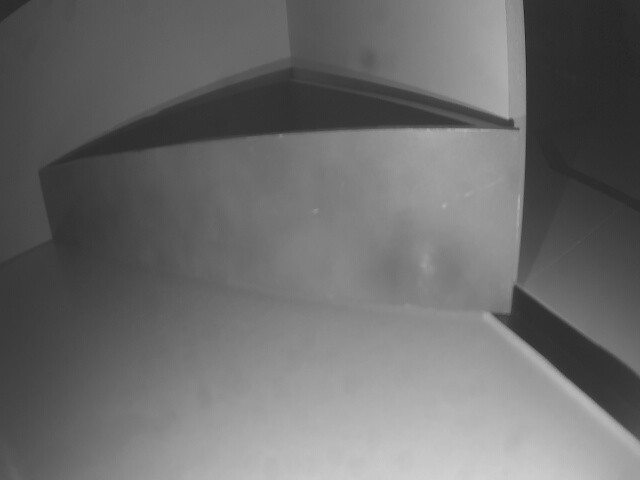Green: (33, 127, 524, 316)
